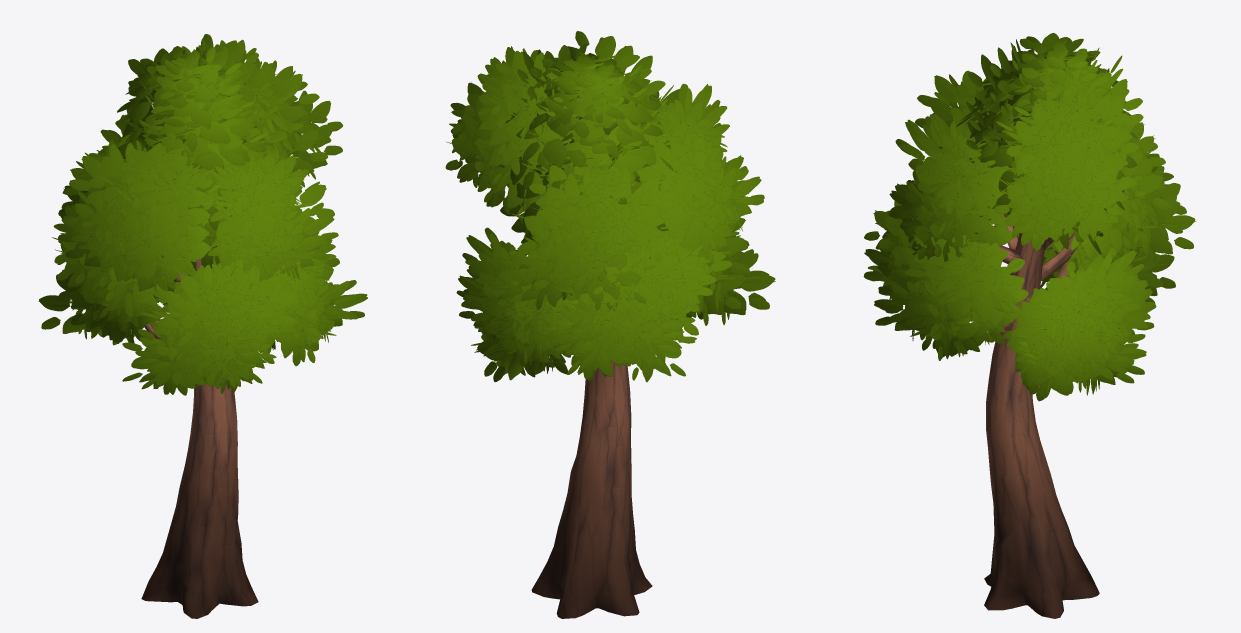
The picture shows the model from 3 angles, left to right: view 1: azimuth 30°, elevation 25°; view 2: azimuth 150°, elevation 25°; view 3: azimuth 270°, elevation 25°; orthographic projection. The views are drawn at different scales.
Parts seen in each view (by area): view 1: CommonTree_1; view 2: CommonTree_1; view 3: CommonTree_1.
Part boxes in pixels (<box>): CommonTree_1: <box>38,34,367,618</box>; CommonTree_1: <box>445,31,775,618</box>; CommonTree_1: <box>863,33,1196,618</box>.
Bounding box in the file's own units: 4.31 × 7.26 × 4.58.
Materials: 2 (2 with a texture image).
